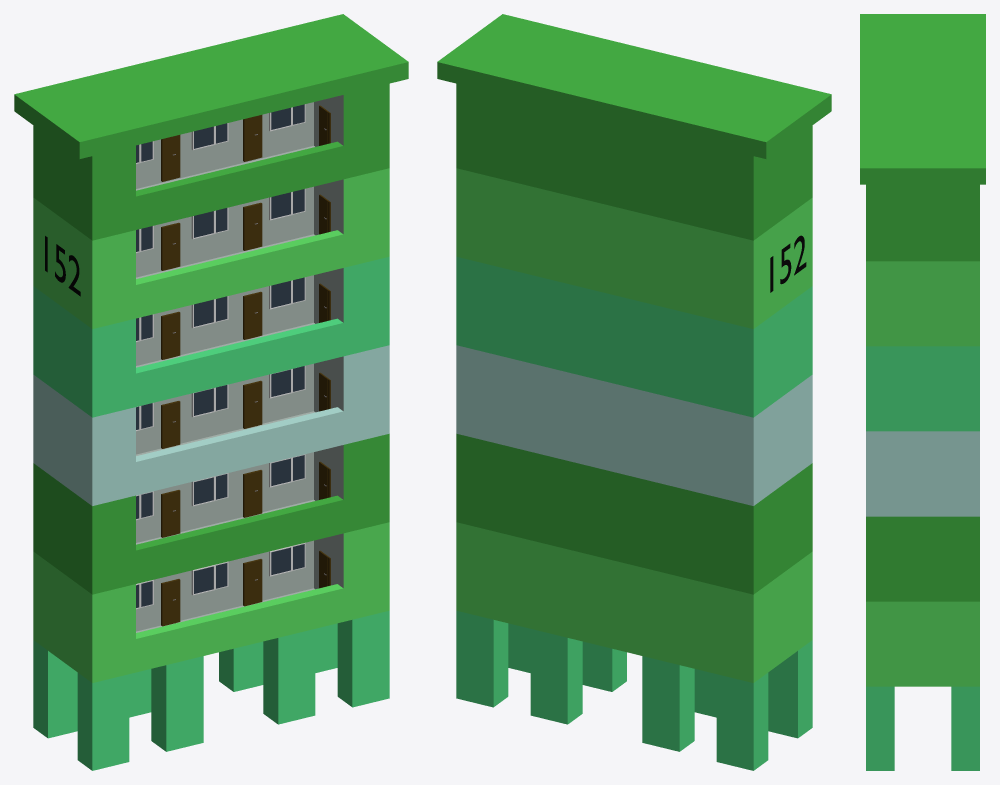
File: HDB_Green.fbx
3 views of the same model, side by side, from view 1: azimuth 30°, elevation 25°; view 2: azimuth 150°, elevation 25°; view 3: azimuth 270°, elevation 25° (orthographic). The views are drawn at different scales.
Parts seen in each view (by area): view 1: Buidling.002, Window.053, Window.050, Window.054, Window.047, Window.051, Window.044, Window.048, Window.038, Window.045, Door.056, Door.057 (+13 smaller); view 2: Buidling.002; view 3: Buidling.002.
Boxes of the visible parts, <box> form: Buidling.002: <box>14,14,408,770</box>; Window.053: <box>191,561,228,595</box>; Window.050: <box>191,473,228,506</box>; Window.054: <box>269,542,305,576</box>; Window.047: <box>191,384,228,417</box>; Window.051: <box>269,454,305,487</box>; Window.044: <box>191,296,228,328</box>; Window.048: <box>269,365,305,398</box>; Window.038: <box>191,207,228,239</box>; Window.045: <box>269,277,305,309</box>; Door.056: <box>243,380,262,428</box>; Door.057: <box>161,401,180,448</box>; Buidling.002: <box>437,14,831,770</box>; Buidling.002: <box>860,14,985,770</box>.
Bounding box in the file's own units: 6422 × 11838 × 2214.
